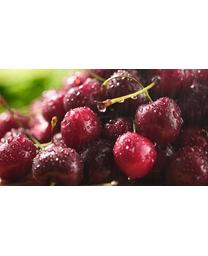cherry: (31, 144, 83, 187), (134, 98, 182, 144), (113, 132, 156, 177), (0, 131, 37, 179), (61, 105, 102, 147), (104, 75, 143, 116)
